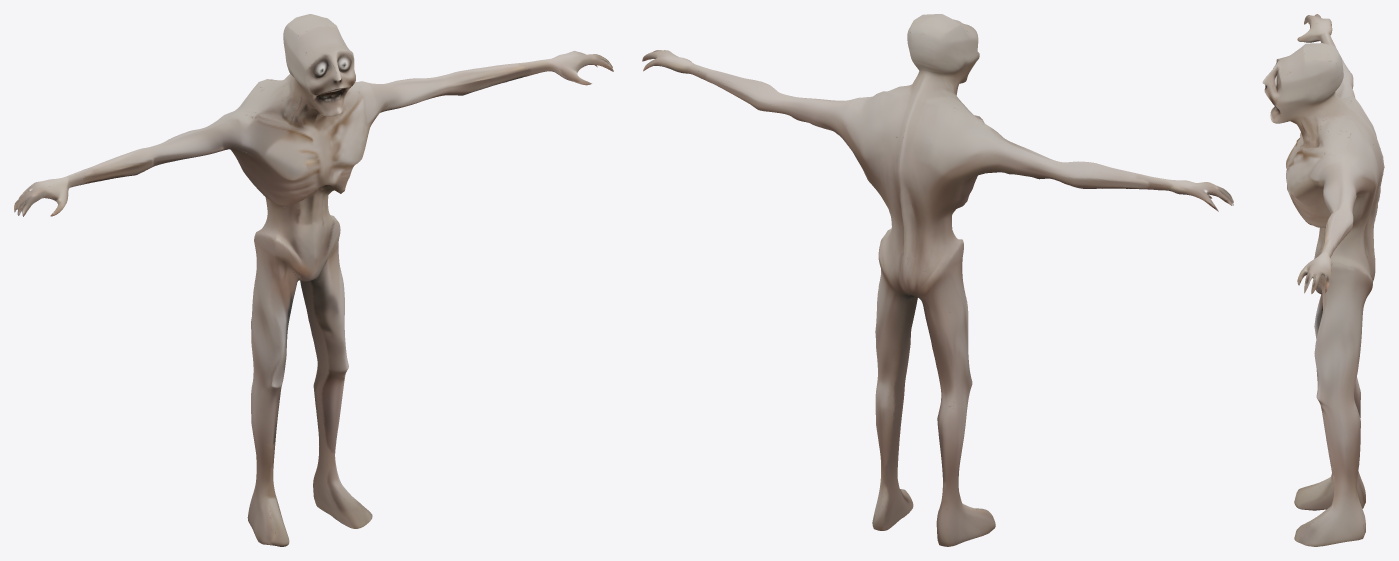
The model's file is base_basic_shaded.fbx.
3 views of the same model, side by side, from view 1: azimuth 30°, elevation 25°; view 2: azimuth 150°, elevation 25°; view 3: azimuth 270°, elevation 25° (orthographic). The views are drawn at different scales.
Visible parts, largest first — view 1: model; view 2: model; view 3: model.
Boxes of the visible parts, x1,y1,x2,y2 form: model: (14,14,613,546); model: (642,14,1233,546); model: (1262,14,1384,546).
Bounding box in the file's own units: 244 × 200 × 46.16.
